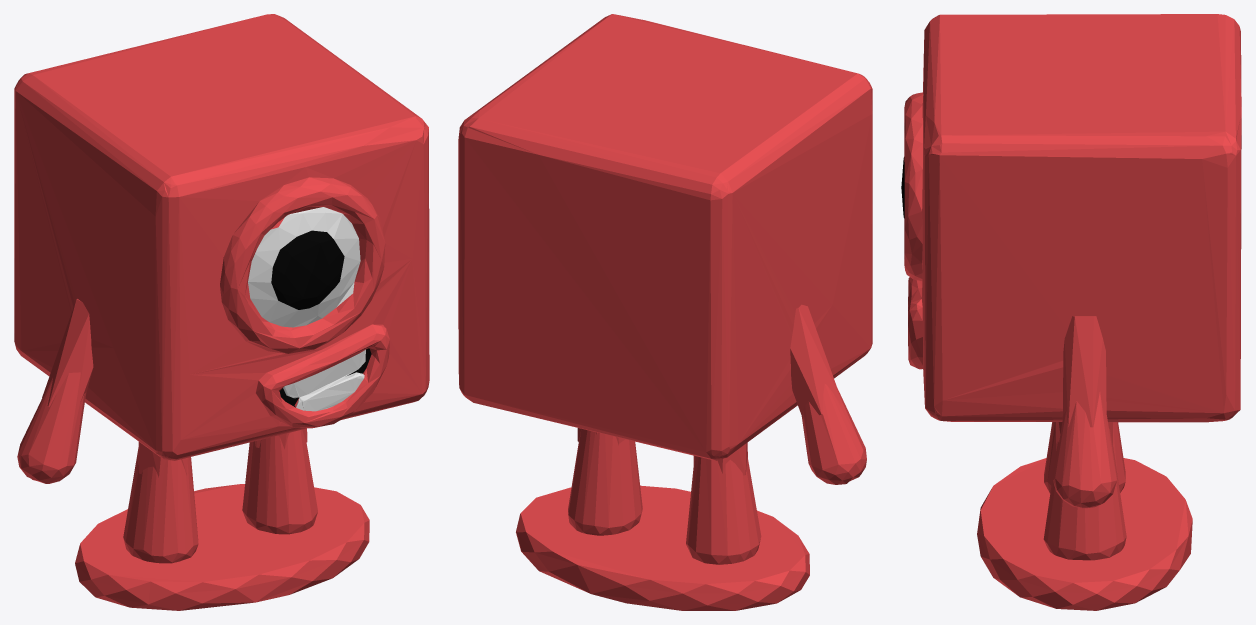
File: NumberBlock1.fbx
The picture shows the model from 3 angles, left to right: view 1: azimuth 30°, elevation 25°; view 2: azimuth 150°, elevation 25°; view 3: azimuth 270°, elevation 25°; orthographic projection.
Parts seen in each view (by area): view 1: NumberBlock1; view 2: NumberBlock1; view 3: NumberBlock1.
Boxes of the visible parts, bbox=[...] form: NumberBlock1: bbox=[14, 14, 429, 610]; NumberBlock1: bbox=[458, 14, 872, 610]; NumberBlock1: bbox=[901, 14, 1241, 610].
Size of the model in its own units: 286 by 324 by 212.
